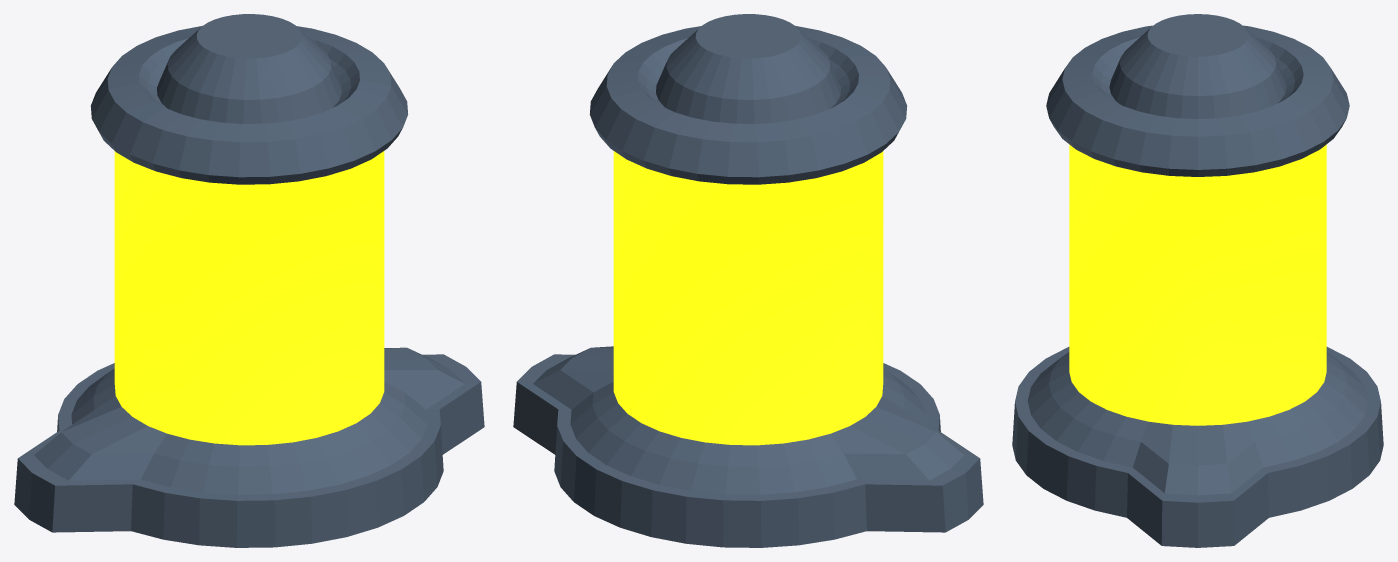
The model's file is SpecimenTank2.fbx.
The picture shows the model from 3 angles, left to right: view 1: azimuth 30°, elevation 25°; view 2: azimuth 150°, elevation 25°; view 3: azimuth 270°, elevation 25°; orthographic projection. The views are drawn at different scales.
Parts seen in each view (by area): view 1: SpecimenTank1; view 2: SpecimenTank1; view 3: SpecimenTank1.
Boxes of the visible parts, x1,y1,x2,y2 form: SpecimenTank1: (14, 14, 484, 547); SpecimenTank1: (513, 14, 983, 547); SpecimenTank1: (1012, 14, 1383, 547).
Size of the model in its own units: 377 by 351 by 288.
